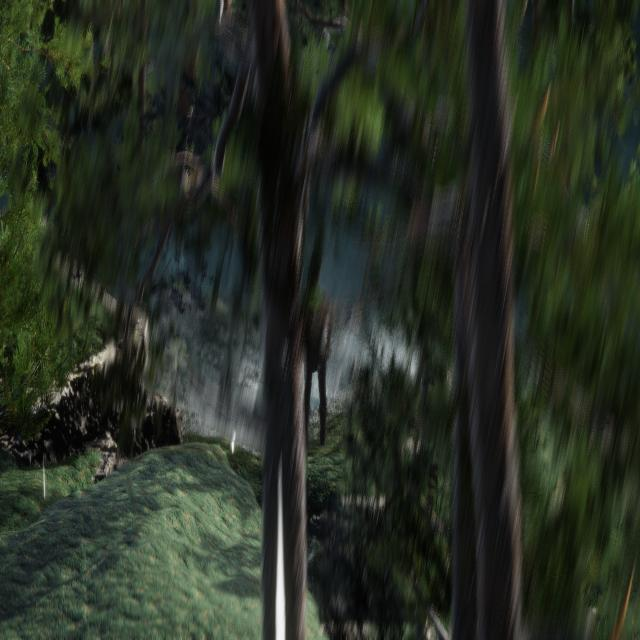Human: (305, 250, 337, 462)
